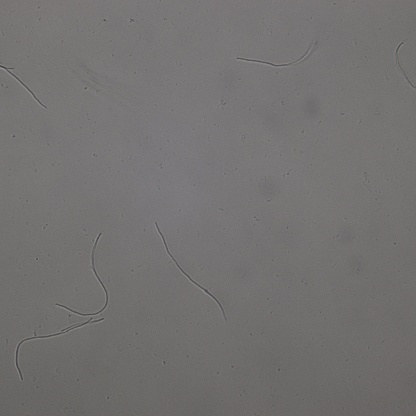Sensitive: (155, 224, 227, 320), (15, 318, 105, 380), (53, 233, 109, 316), (1, 66, 48, 108), (237, 44, 313, 67), (395, 41, 416, 91)
